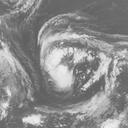cyclone: (38, 33, 80, 93)
